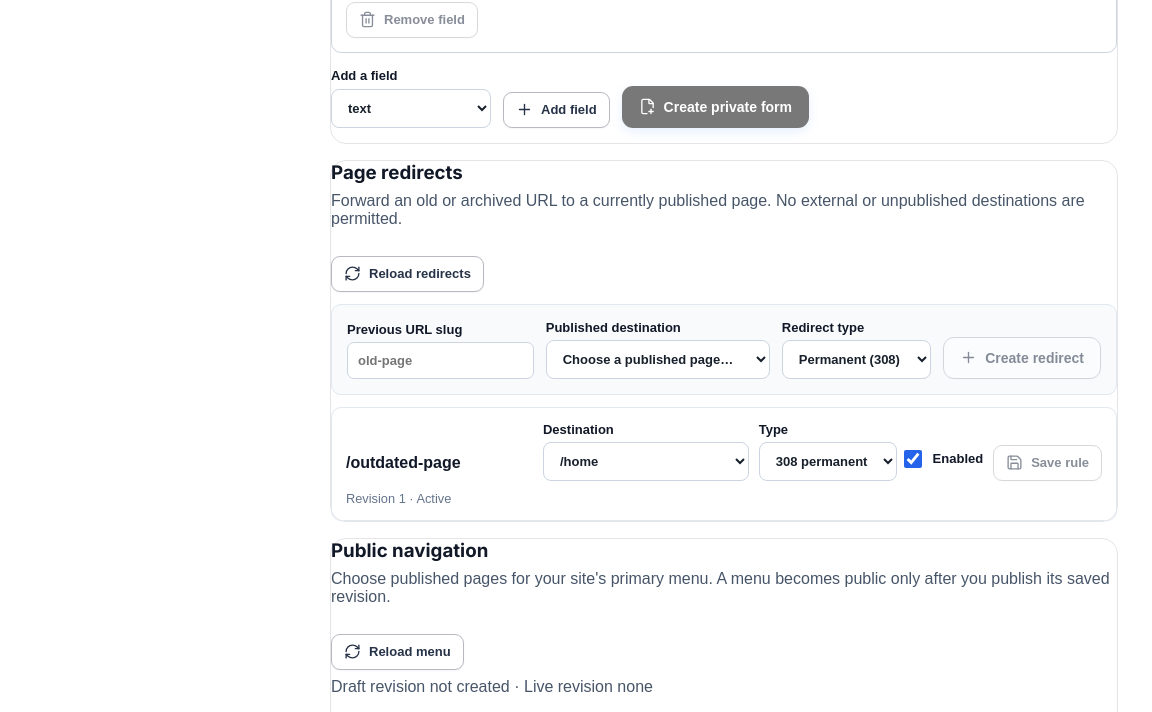
Test: owner CMS page redirects › creates redirects using a verified published page selection
(page scrolled)
Type "old-about" into the field labelled "Previous URL slug".
click(440, 360); type("old-about")  # box top-left (347, 342), bottom-right (534, 379)
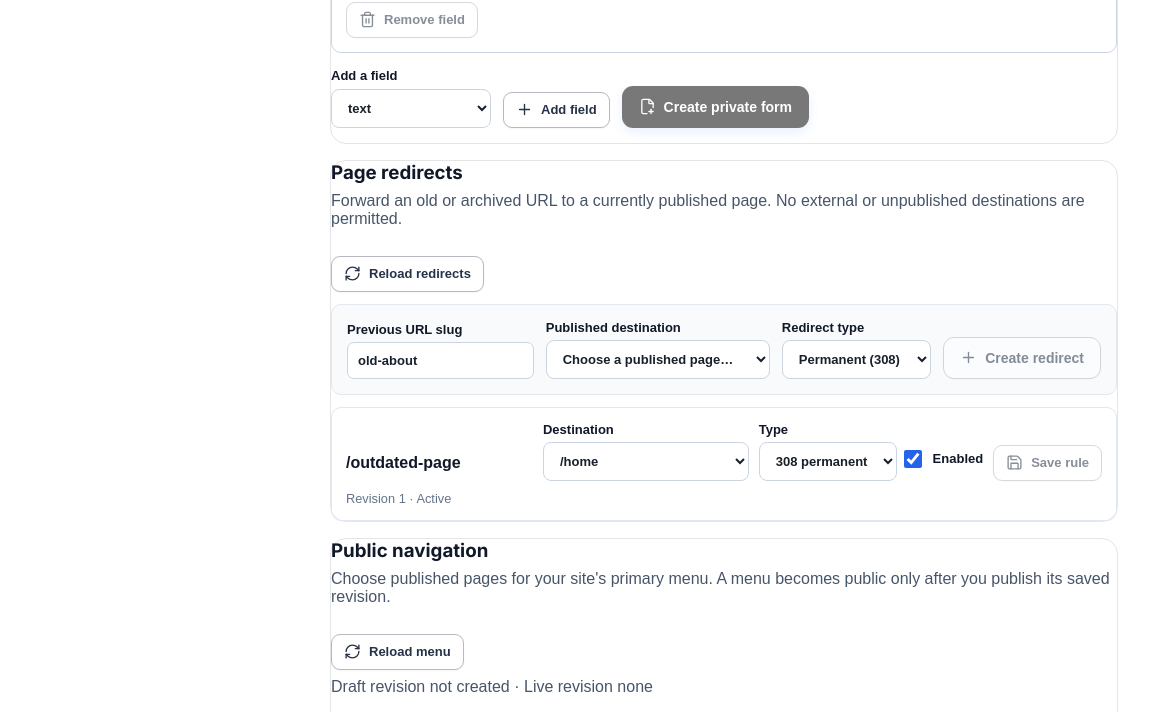
Select "about (/about)" in the dropdown labelled "Published destination" at (658, 359), box top-left (546, 340), bottom-right (770, 379)
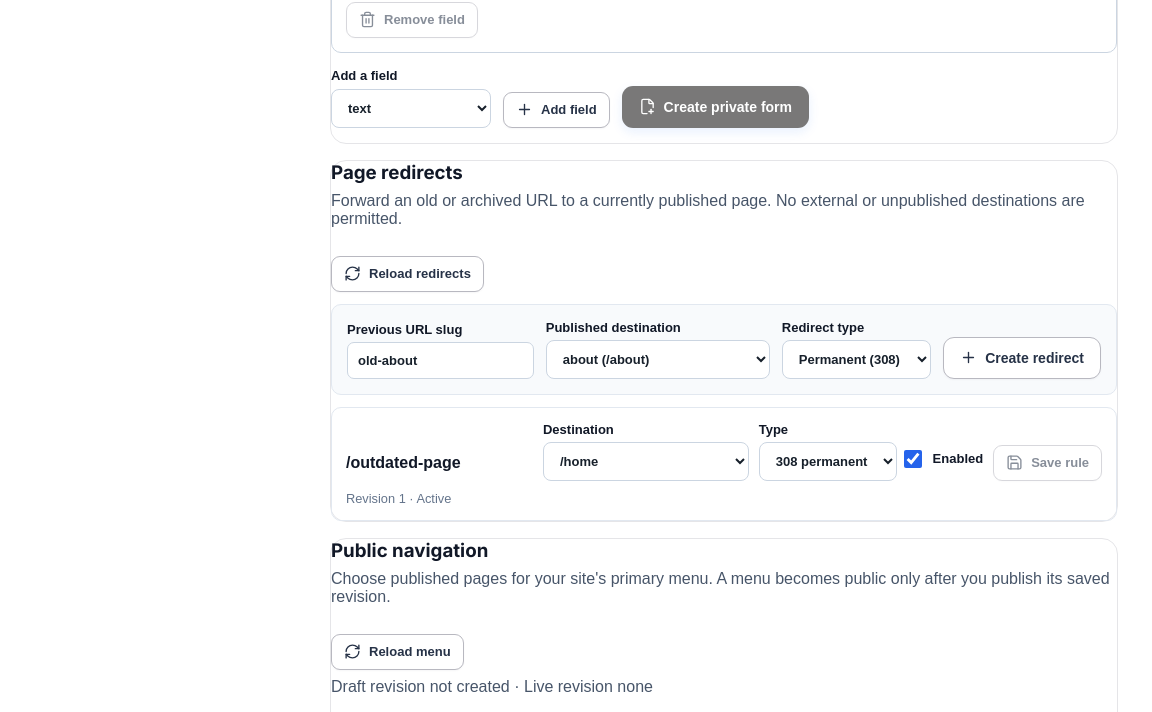
Click the button "Create redirect".
click(1022, 358)  # box top-left (943, 337), bottom-right (1101, 379)
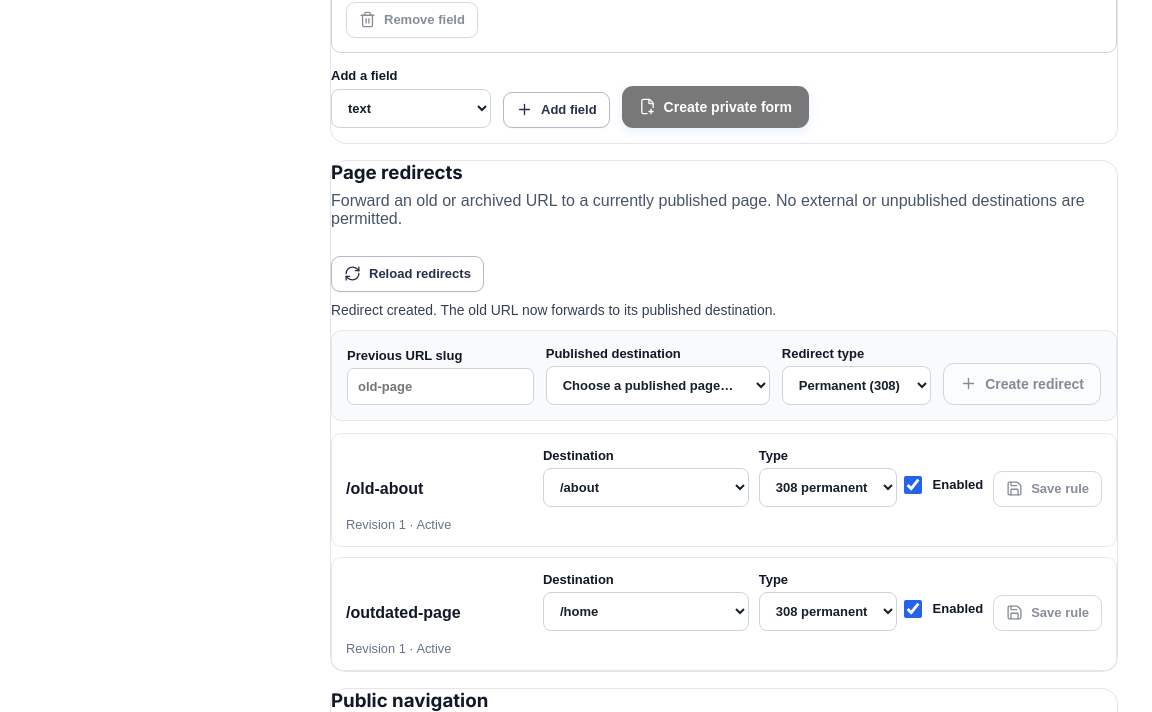
Check: the text "/old-about" is shown, box top-left (346, 480), bottom-right (423, 497)
